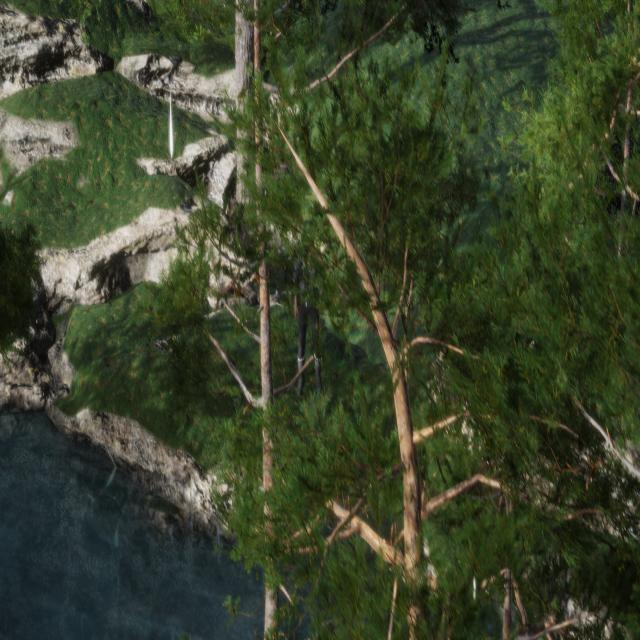Human: (290, 214, 333, 415)
